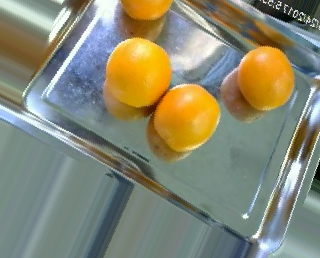Orange: (103, 38, 172, 108), (153, 82, 221, 151), (236, 46, 295, 110)
